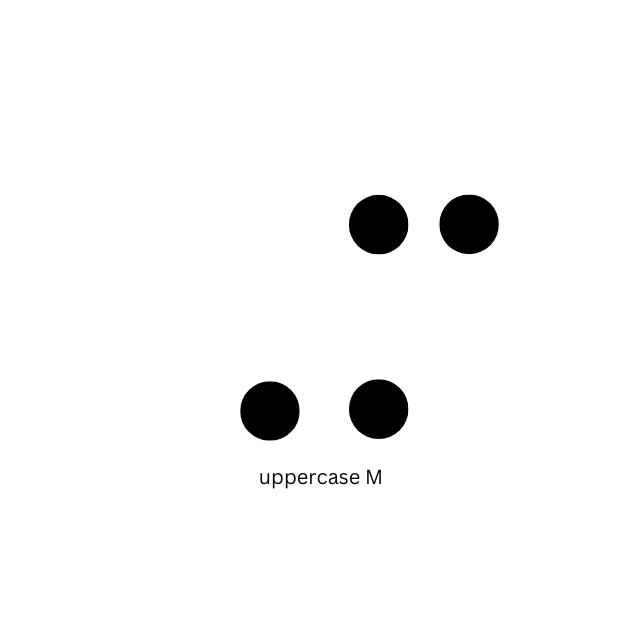capital_sign: (151, 194, 300, 441)
letter_M: (349, 194, 498, 441)
